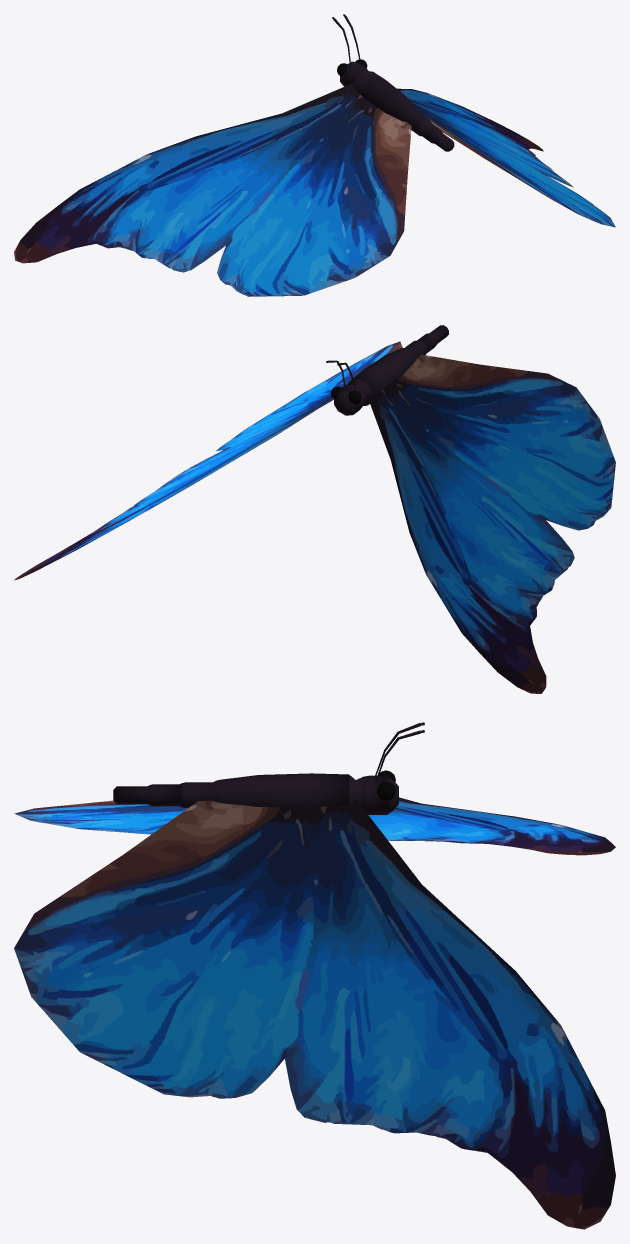
The model's file is mariposa animada.fbx.
The picture shows the model from 3 angles, top to bottom: view 1: azimuth 30°, elevation 25°; view 2: azimuth 150°, elevation 25°; view 3: azimuth 270°, elevation 25°; orthographic projection. The views are drawn at different scales.
Parts seen in each view (by area): view 1: Circle; view 2: Circle; view 3: Circle.
Part boxes in pixels (left/top/right/bottom): Circle: left=14, top=14, right=615, bottom=296; Circle: left=14, top=325, right=615, bottom=693; Circle: left=14, top=722, right=615, bottom=1229.
Size of the model in its own units: 3960 by 1703 by 2833.
Materials: 2 (1 with a texture image).
